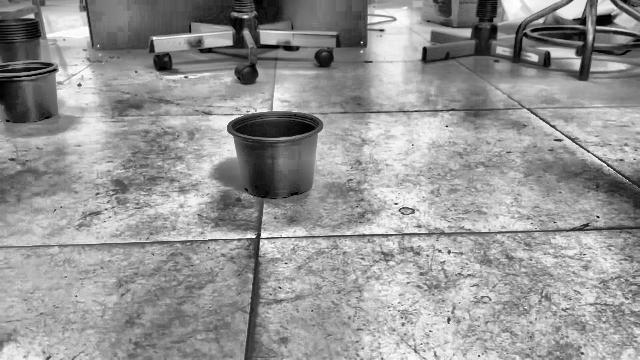pot: (227, 111, 323, 197), (0, 61, 57, 123)
